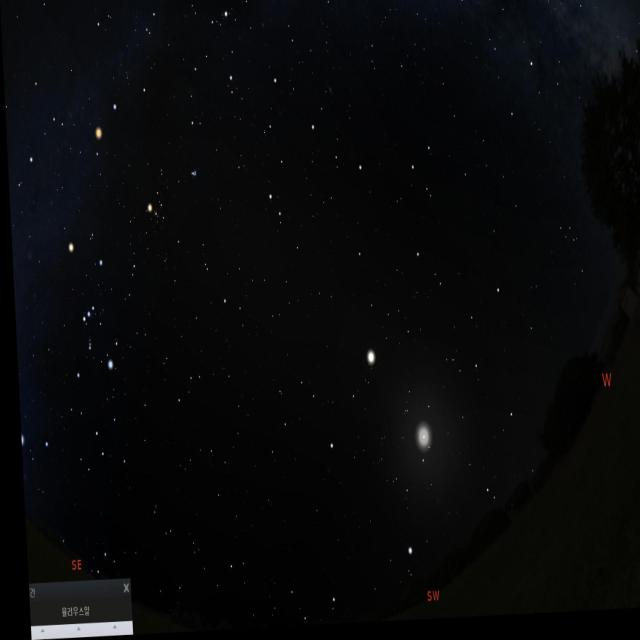moon: (397, 413, 441, 477)
orion: (51, 233, 118, 392)
pleiades: (180, 156, 202, 192)
taurus: (138, 158, 210, 252)
